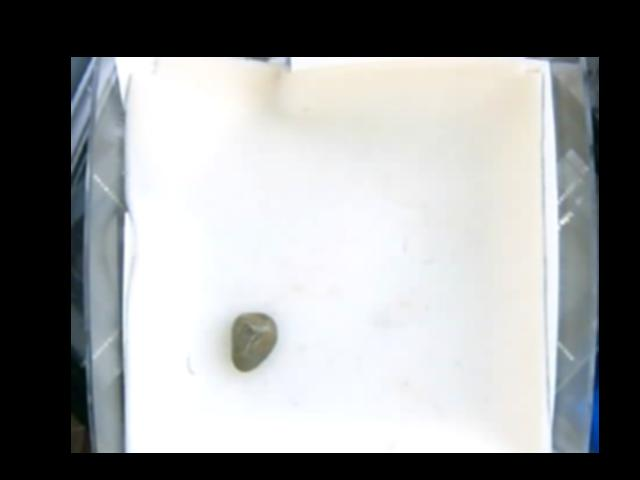Pebble: (231, 311, 277, 373)
